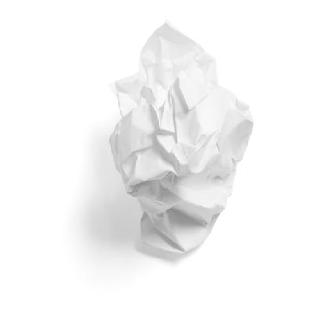8/可回收垃圾/纸: (109, 22, 255, 261)
